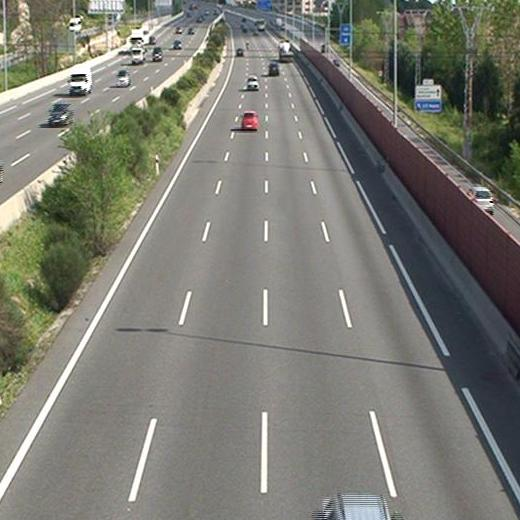car: (241, 110, 258, 131), (246, 74, 260, 90), (267, 61, 281, 74)
truck: (279, 40, 294, 62)
